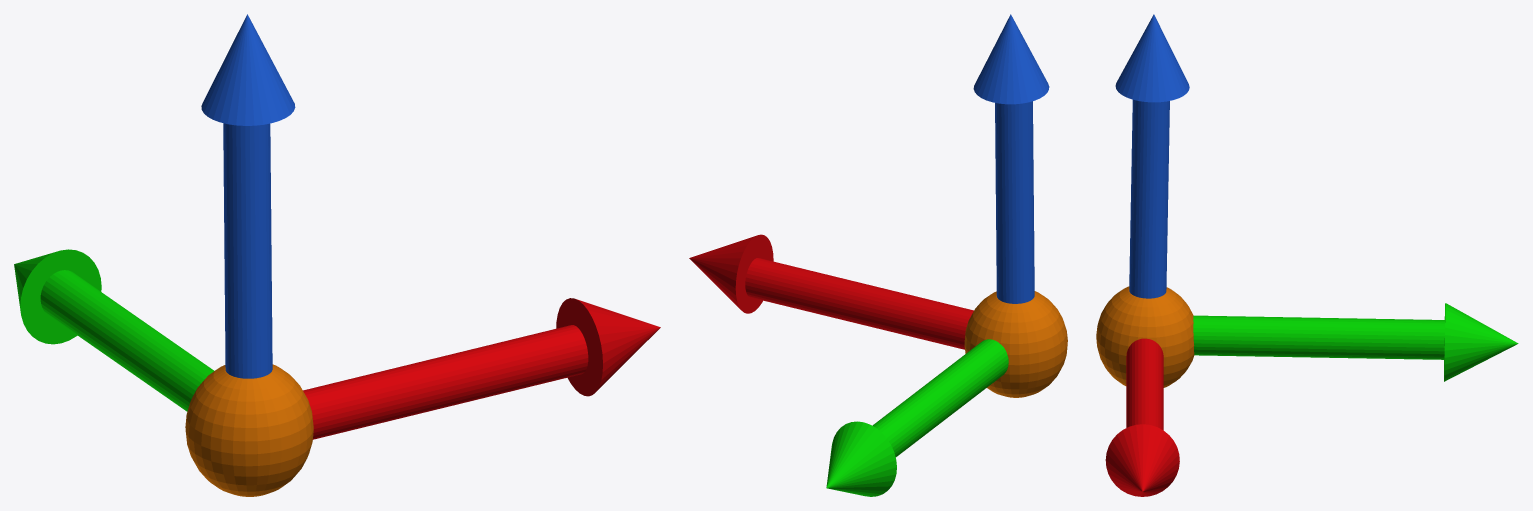
File: AxesCursor.fbx
3 renders of one model, left to right at view 1: azimuth 30°, elevation 25°; view 2: azimuth 150°, elevation 25°; view 3: azimuth 270°, elevation 25°, orthographic. The views are drawn at different scales.
Parts seen in each view (by area): view 1: Cone; view 2: Cone; view 3: Cone.
Boxes of the visible parts, bbox=[...] form: Cone: bbox=[14, 14, 660, 496]; Cone: bbox=[689, 14, 1067, 496]; Cone: bbox=[1096, 14, 1518, 496].
Size of the model in its own units: 10978 by 10993 by 10712.
